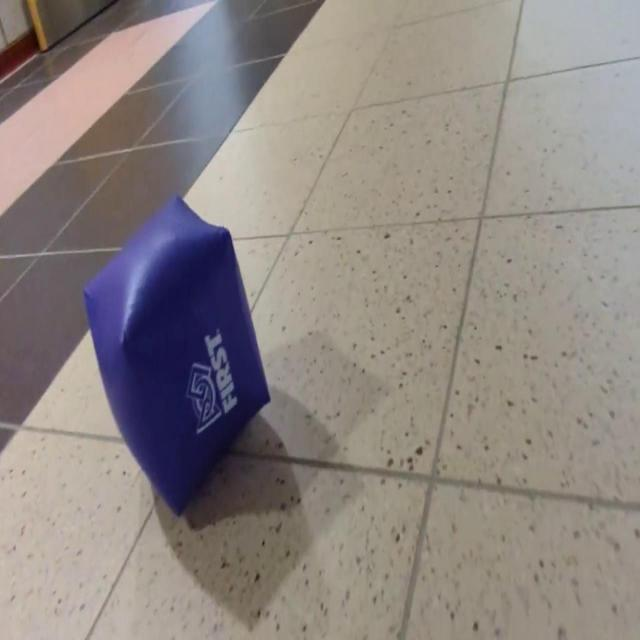frc_cube: (85, 187, 273, 516)
